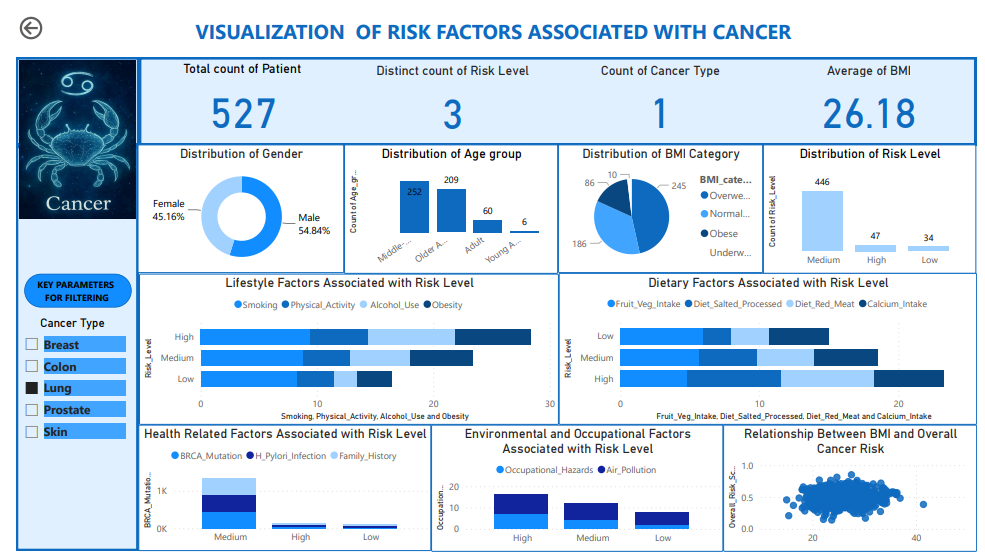

The dashboard page shown, as its layout file describes it:
{"tool":"powerbi","page":{"name":"Page 1","canvas":[1280,720],"ordinal":0},"visuals":[{"type":"shape","box":[0,176.6,163.2,539.7],"z":500},{"type":"textbox","box":[0,0,1279.3,58.6],"z":1000},{"type":"actionButton","box":[0,0,100,40],"z":2000},{"type":"slicer","title":"Cancer Type","fields":{"Values":["cancer-risk-factors.Cancer_Type"]},"box":[0,403.3,151.4,212],"z":3000},{"type":"shape","box":[163.8,58.6,1115.5,117.2],"z":4000},{"type":"shape","box":[0,58.6,163.8,117.2],"z":5000},{"type":"card","title":"Total count of Patient","fields":{"Values":["CountNonNull(cancer-risk-factors.Patient_ID)"]},"box":[192.3,64.1,219.2,106.2],"z":6000},{"type":"card","title":"Distinct count of Risk Level","fields":{"Values":["Count(cancer-risk-factors.Risk_Level)"]},"box":[470.5,65.8,222.6,106.2],"z":7000},{"type":"card","title":"Count of Cancer Type","fields":{"Values":["Count(cancer-risk-factors.Cancer_Type)"]},"box":[748.8,65.8,219.2,104.6],"z":8000},{"type":"card","title":"Average of BMI","fields":{"Values":["Avg(cancer-risk-factors.BMI)"]},"box":[1027,65.8,219.2,104.6],"z":9000},{"type":"donutChart","title":"Distribution of Gender ","fields":{"Category":["cancer-risk-factors.Gender"],"Y":["CountNonNull(cancer-risk-factors.Gender)"]},"box":[162,175.4,275.3,170.6],"z":10000},{"type":"columnChart","title":"Distribution of Age group","fields":{"Category":["cancer-risk-factors.Age_group"],"Y":["CountNonNull(cancer-risk-factors.Age_group)"]},"box":[436.8,175.4,285,172],"z":11000},{"type":"pieChart","title":"Distribution of BMI Category","fields":{"Category":["cancer-risk-factors.BMI_category"],"Y":["CountNonNull(cancer-risk-factors.BMI_category)"]},"box":[721.8,175.4,273.2,170.3],"z":12000},{"type":"columnChart","title":"Distribution of Risk Level","fields":{"Category":["cancer-risk-factors.Risk_Level"],"Y":["CountNonNull(cancer-risk-factors.Risk_Level)"]},"box":[994.9,175.6,283.3,170.5],"z":13000},{"type":"barChart","title":"Dietary Factors Associated with Risk Level","fields":{"Category":["cancer-risk-factors.Risk_Level"],"Y":["Avg(cancer-risk-factors.Fruit_Veg_Intake)","Avg(cancer-risk-factors.Diet_Salted_Processed)","Avg(cancer-risk-factors.Diet_Red_Meat)","Avg(cancer-risk-factors.Calcium_Intake)"]},"box":[723.2,346.4,557.1,201.8],"z":14000},{"type":"barChart","title":"Lifestyle Factors Associated with Risk Level","fields":{"Category":["cancer-risk-factors.Risk_Level"],"Y":["Avg(cancer-risk-factors.Smoking)","Avg(cancer-risk-factors.Physical_Activity)","Avg(cancer-risk-factors.Alcohol_Use)","Avg(cancer-risk-factors.Obesity)"]},"box":[163.6,347.4,559.9,200.7],"z":15000},{"type":"columnChart","title":"Health Related Factors Associated with Risk Level","fields":{"Category":["cancer-risk-factors.Risk_Level"],"Y":["CountNonNull(cancer-risk-factors.BRCA_Mutation)","CountNonNull(cancer-risk-factors.H_Pylori_Infection)","CountNonNull(cancer-risk-factors.Family_History)"]},"box":[163.2,548.2,389.8,168.1],"z":16000},{"type":"columnChart","title":"Environmental and Occupational Factors Associated with Risk Level","fields":{"Category":["cancer-risk-factors.Risk_Level"],"Y":["Avg(cancer-risk-factors.Occupational_Hazards)","Avg(cancer-risk-factors.Air_Pollution)"]},"box":[553.3,548.3,388.3,168.3],"z":17000},{"type":"scatterChart","title":"Relationship Between BMI and Overall Cancer Risk","fields":{"Y":["cancer-risk-factors.Overall_Risk_Score"],"X":["Sum(cancer-risk-factors.BMI)"]},"box":[941.7,548.3,338.3,168.3],"z":18000},{"type":"shape","box":[11,346.8,143.1,45.4],"z":19000},{"type":"textbox","box":[12.4,346.8,139,45.4],"z":20000},{"type":"image","box":[0,57.8,163.8,220.2],"z":21000}]}

Visuals, with their boxes in screenshot pixels (x1, y1, x2, y2), scaled from the page's 1280x720 canvas onto the 985x558 screenshot:
shape: [0, 137, 126, 555]
textbox: [0, 0, 984, 45]
actionButton: [0, 0, 77, 31]
"Cancer Type" slicer: [0, 313, 117, 477]
shape: [126, 45, 984, 136]
shape: [0, 45, 126, 136]
"Total count of Patient" card: [148, 50, 317, 132]
"Distinct count of Risk Level" card: [362, 51, 533, 133]
"Count of Cancer Type" card: [576, 51, 745, 132]
"Average of BMI" card: [790, 51, 959, 132]
"Distribution of Gender " donutChart: [125, 136, 337, 268]
"Distribution of Age group" columnChart: [336, 136, 555, 269]
"Distribution of BMI Category" pieChart: [555, 136, 766, 268]
"Distribution of Risk Level" columnChart: [766, 136, 984, 268]
"Dietary Factors Associated with Risk Level" barChart: [557, 268, 984, 425]
"Lifestyle Factors Associated with Risk Level" barChart: [126, 269, 557, 425]
"Health Related Factors Associated with Risk Level" columnChart: [126, 425, 426, 555]
"Environmental and Occupational Factors Associated with Risk Level" columnChart: [426, 425, 725, 555]
"Relationship Between BMI and Overall Cancer Risk" scatterChart: [725, 425, 984, 555]
shape: [8, 269, 119, 304]
textbox: [10, 269, 117, 304]
image: [0, 45, 126, 215]
